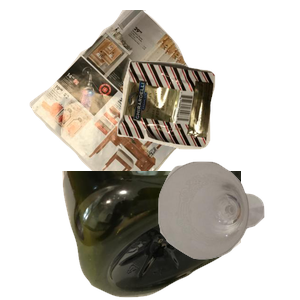glass: (156, 159, 300, 300)
paper: (27, 10, 230, 190)
plastic: (60, 171, 300, 300)
trash: (115, 58, 300, 200)
